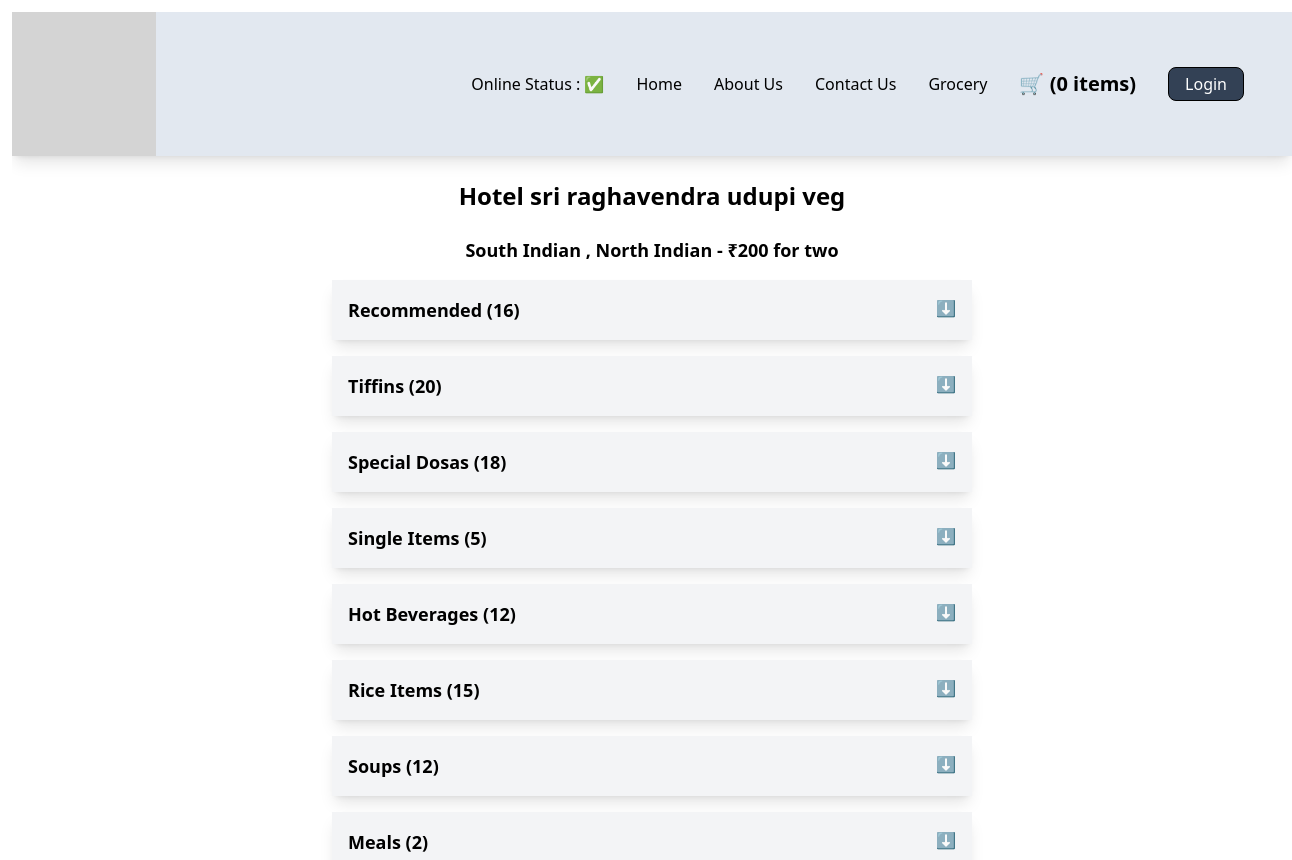
Should add food items to the card and render it › Should be able to add 2 items to card and display in header
The width and height of the screenshot is (1292, 860).
Step 1. Click the text "Recommended (16)" → (434, 310), box [348,296,520,324]
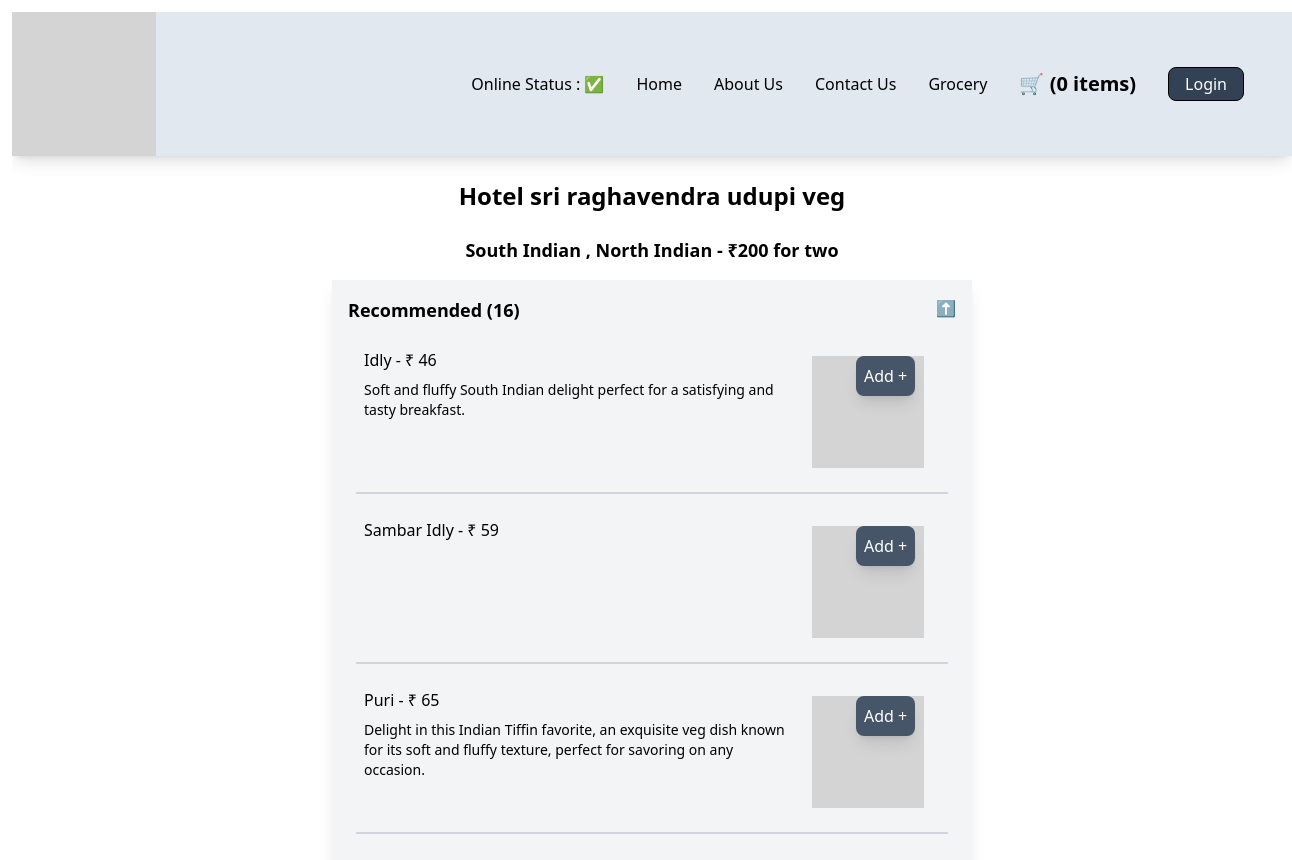
Check: the number of elements with test id "food-items" is 16
Note: Adding item in the cart
Step 2. Click the button "Add +" in the row of "46" → (886, 376), box [856,356,915,396]
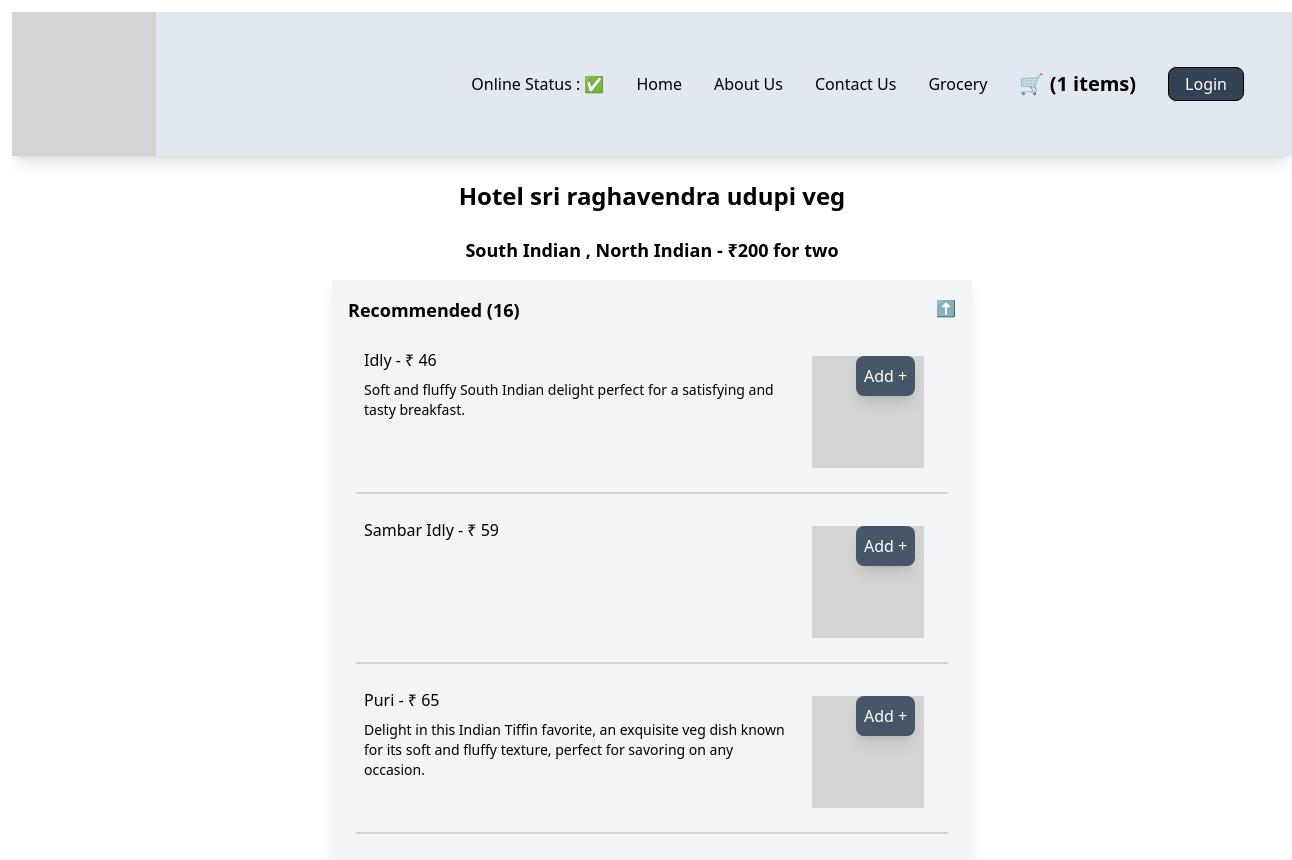
Check: the link "🛒 (1 items)" is shown, box [1020,70,1136,97]
Note: Adding another item in the cart
Step 3. Click the button "Add +" in the row of "Sambar Idly" → (886, 546), box [856,526,915,566]
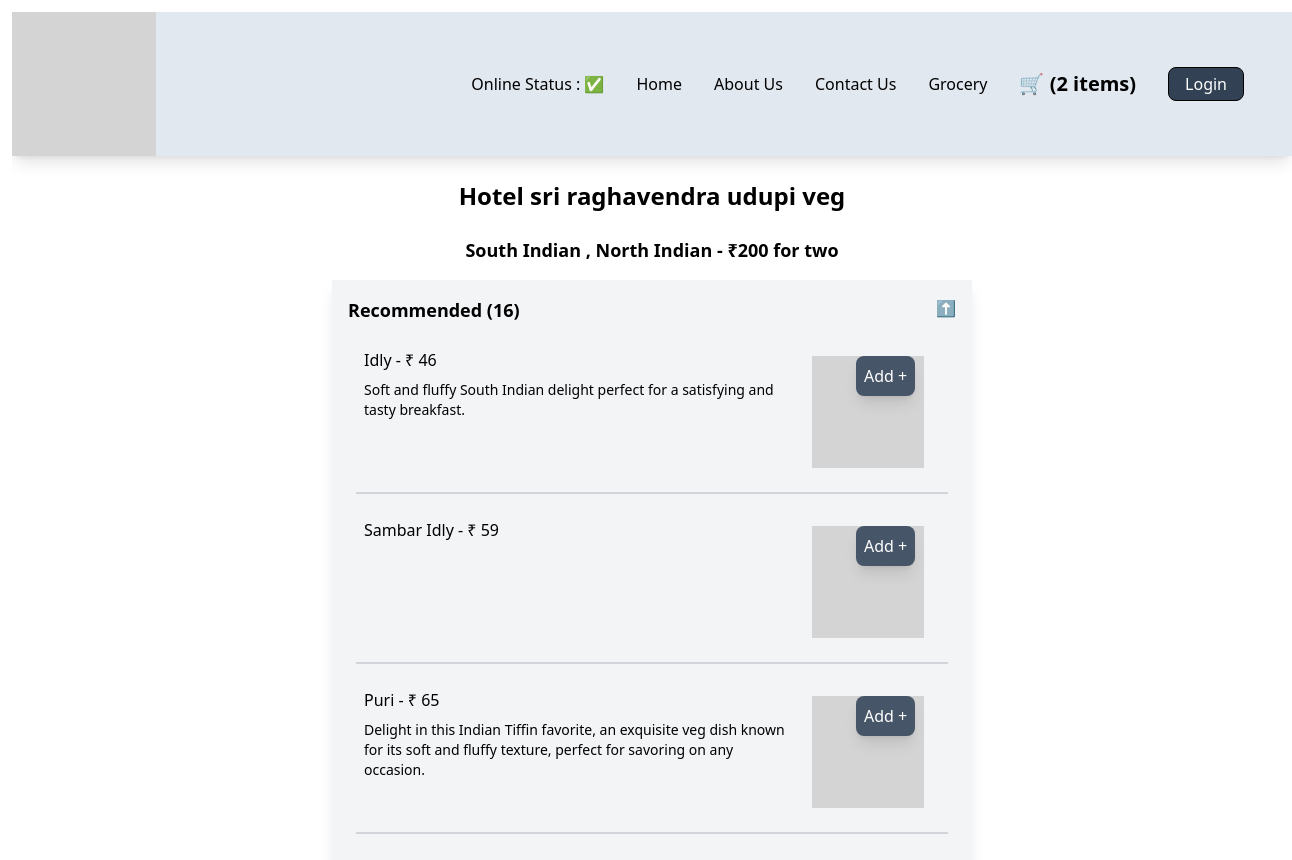
Check: the link "🛒 (2 items)" is shown, box [1020,70,1136,97]
